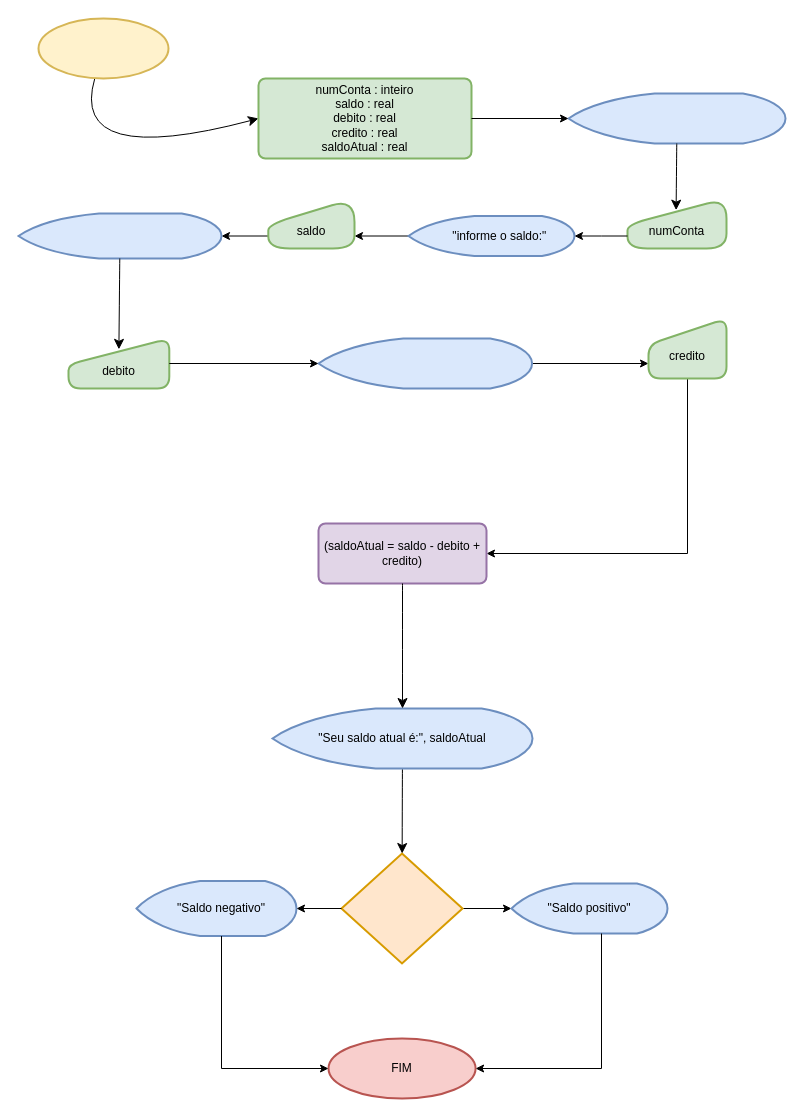
This 803x1116 diagram has some shape labels left out. The box of each missing label's shape, as (x1, y1, x2, y2) in pixels:
"informe o crédito:": (317, 337, 533, 389)
"informe o débito:": (17, 212, 222, 259)
"informe o número da sua conta:": (567, 92, 786, 144)
INÍCIO: (37, 17, 169, 79)
saldoAtual >= 0: (340, 852, 463, 964)
